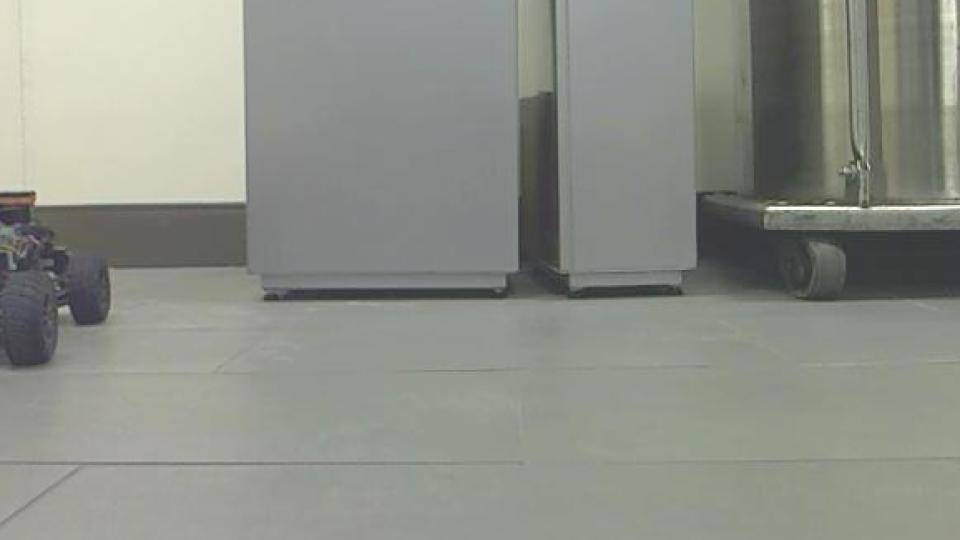car: (0, 142, 113, 370)
